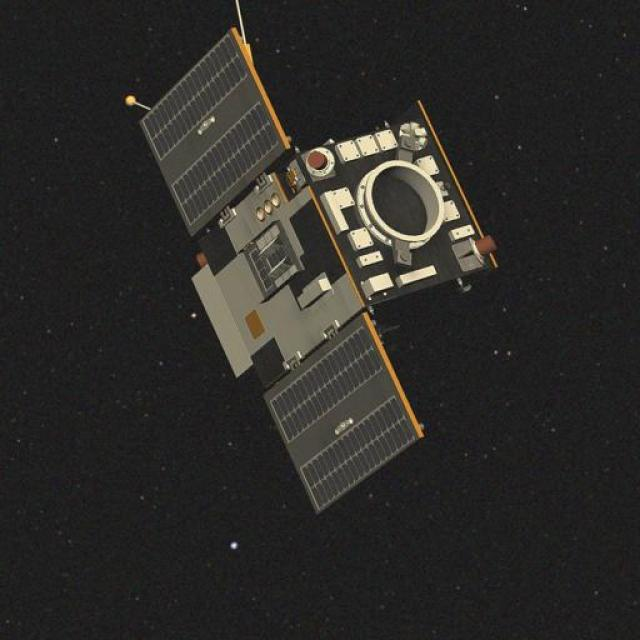proba_2: (132, 31, 535, 515)
